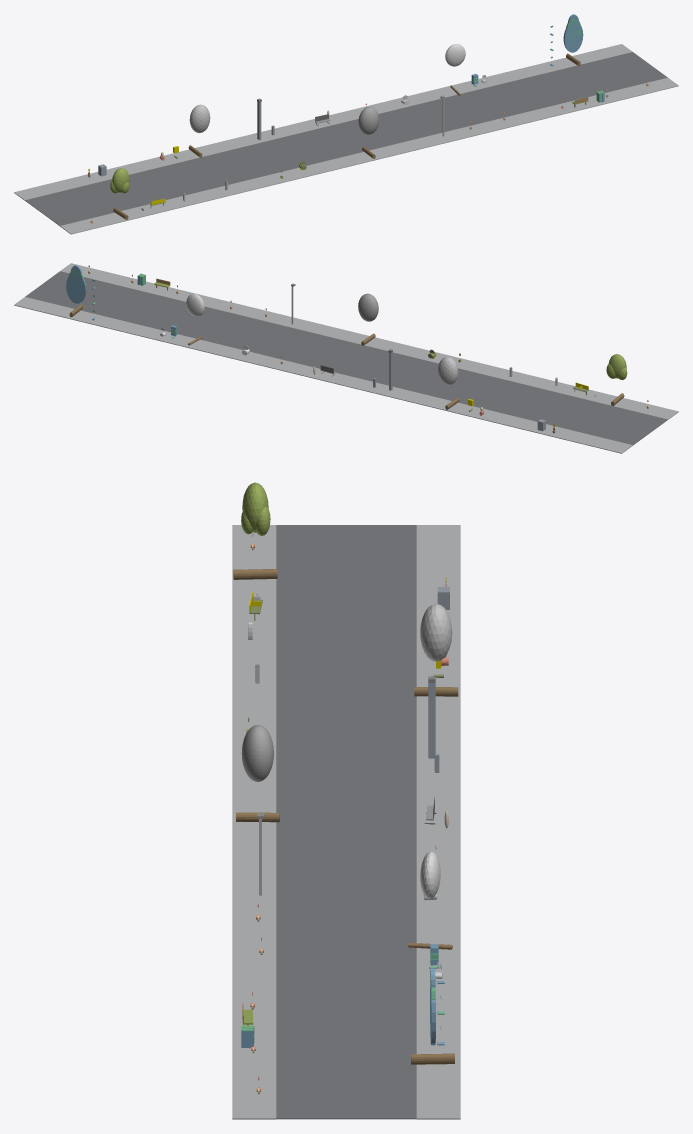
3 views of the same model, one above another, from view 1: azimuth 30°, elevation 25°; view 2: azimuth 150°, elevation 25°; view 3: azimuth 270°, elevation 25° (orthographic). The views are drawn at different scales.
Visible parts, largest first — view 1: road_slab, sidewalk_left, sidewalk_right, inst_0016, inst_0013, inst_0014, inst_0012, inst_0015; view 2: road_slab, sidewalk_right, sidewalk_left, inst_0016, inst_0013, inst_0014, inst_0012, inst_0015; view 3: road_slab, sidewalk_left, sidewalk_right, inst_0013, inst_0014, inst_0012, inst_0015, inst_0016.
Boxes of the visible parts, <box> form: road_slab: <box>25,52,667,225</box>; sidewalk_left: <box>60,77,678,234</box>; sidewalk_right: <box>14,44,632,200</box>; inst_0016: <box>563,14,583,66</box>; inst_0013: <box>188,104,210,157</box>; inst_0014: <box>358,107,379,158</box>; inst_0012: <box>110,168,129,219</box>; inst_0015: <box>445,44,465,95</box>; road_slab: <box>25,271,667,445</box>; sidewalk_right: <box>14,297,632,453</box>; sidewalk_left: <box>60,263,678,419</box>; inst_0016: <box>66,265,86,317</box>; inst_0013: <box>438,356,459,409</box>; inst_0014: <box>358,293,378,345</box>; inst_0012: <box>606,354,627,406</box>; inst_0015: <box>186,293,204,345</box>; road_slab: <box>276,525,416,1119</box>; sidewalk_left: <box>232,525,276,1119</box>; sidewalk_right: <box>416,525,460,1119</box>; inst_0013: <box>414,603,458,696</box>; inst_0014: <box>236,725,279,822</box>; inst_0012: <box>233,482,277,579</box>; inst_0015: <box>408,851,452,949</box>; inst_0016: <box>411,968,454,1064</box>.
Size of the model in its own units: 80 by 6.08 by 13.
